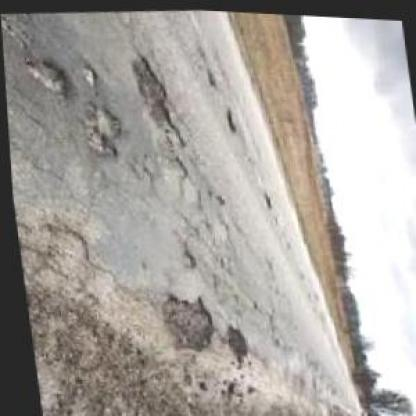pothole: (129, 50, 189, 147), (155, 290, 214, 355), (78, 101, 124, 158), (21, 54, 73, 101), (219, 320, 248, 365), (82, 64, 98, 90)
